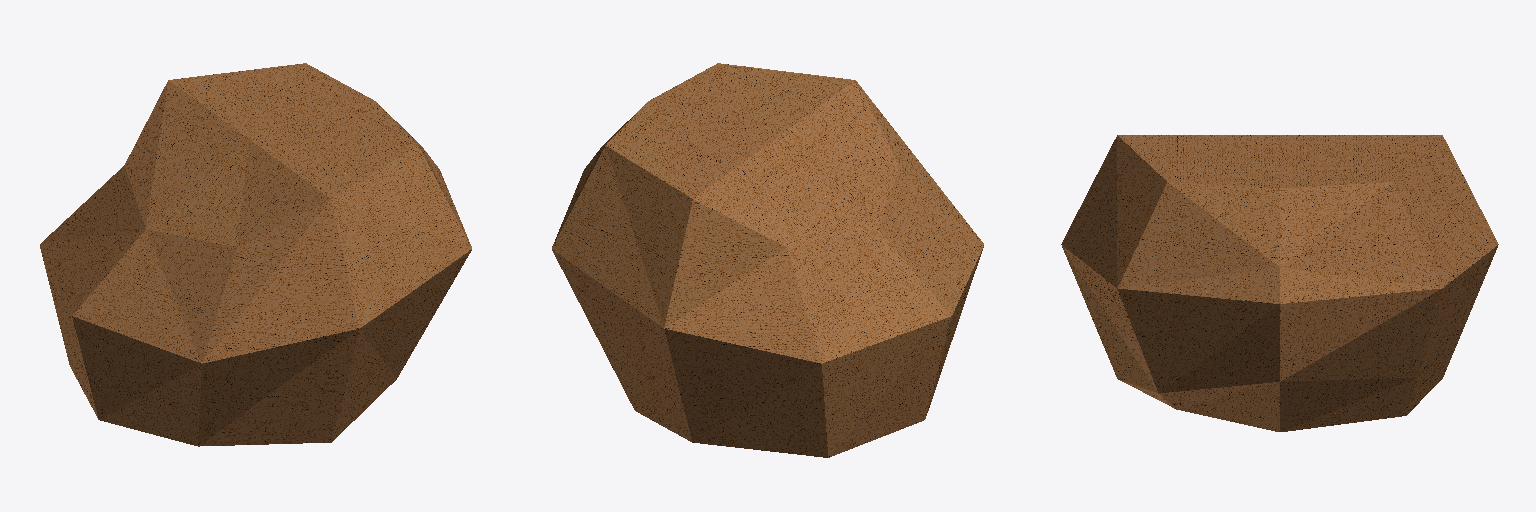
3 views of the same model, side by side, from view 1: azimuth 30°, elevation 25°; view 2: azimuth 150°, elevation 25°; view 3: azimuth 270°, elevation 25° (orthographic).
Parts seen in each view (by area): view 1: Stone02:pCube4; view 2: Stone02:pCube4; view 3: Stone02:pCube4.
Boxes of the visible parts, <box> form: Stone02:pCube4: <box>40,63,471,446</box>; Stone02:pCube4: <box>552,63,983,457</box>; Stone02:pCube4: <box>1061,135,1498,431</box>.
Bounding box in the file's own units: 5.22 × 3.41 × 5.38.
1 materials, 1 textured.